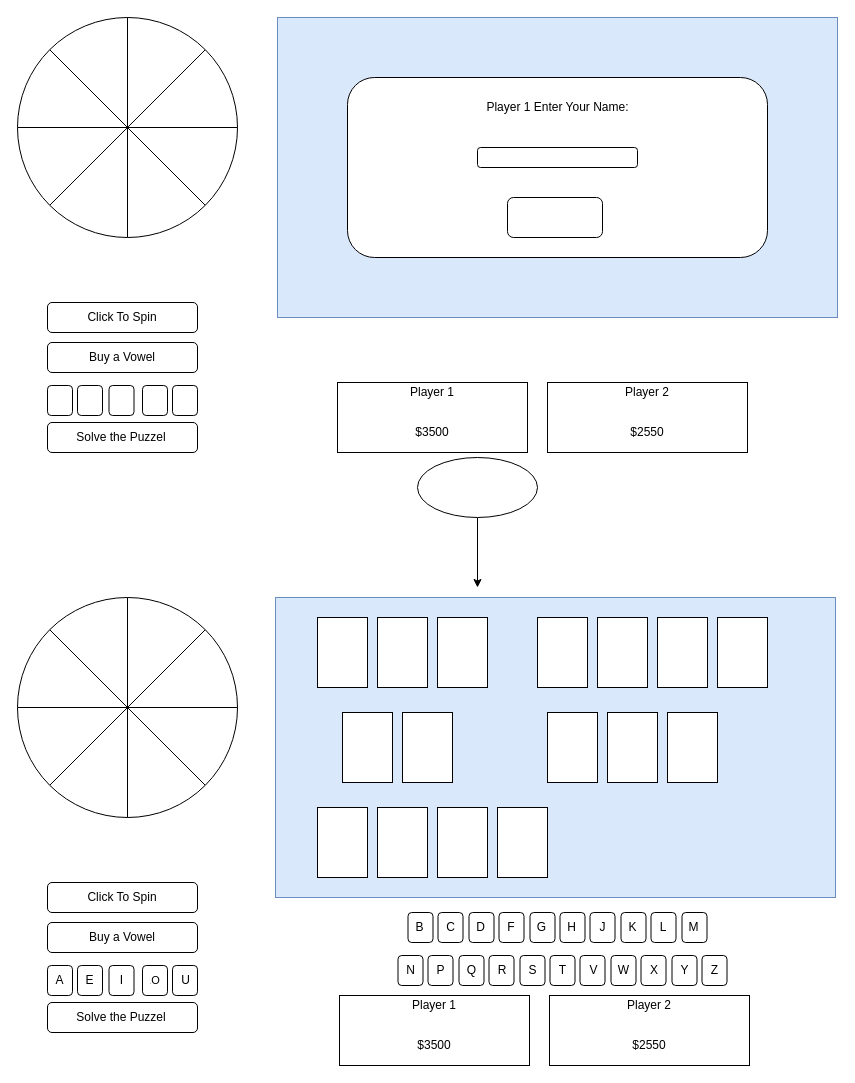
Image size: 855x1083. Some labels were removed from this diagram. Here are the shapes that lost their labels. From the top down, the centre of each, then its label:
the point at 554,217: Submit
the point at 477,487: After collecting user info start game
